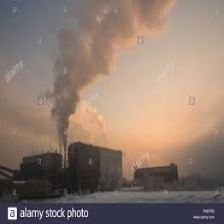smoke: (55, 2, 130, 135)
